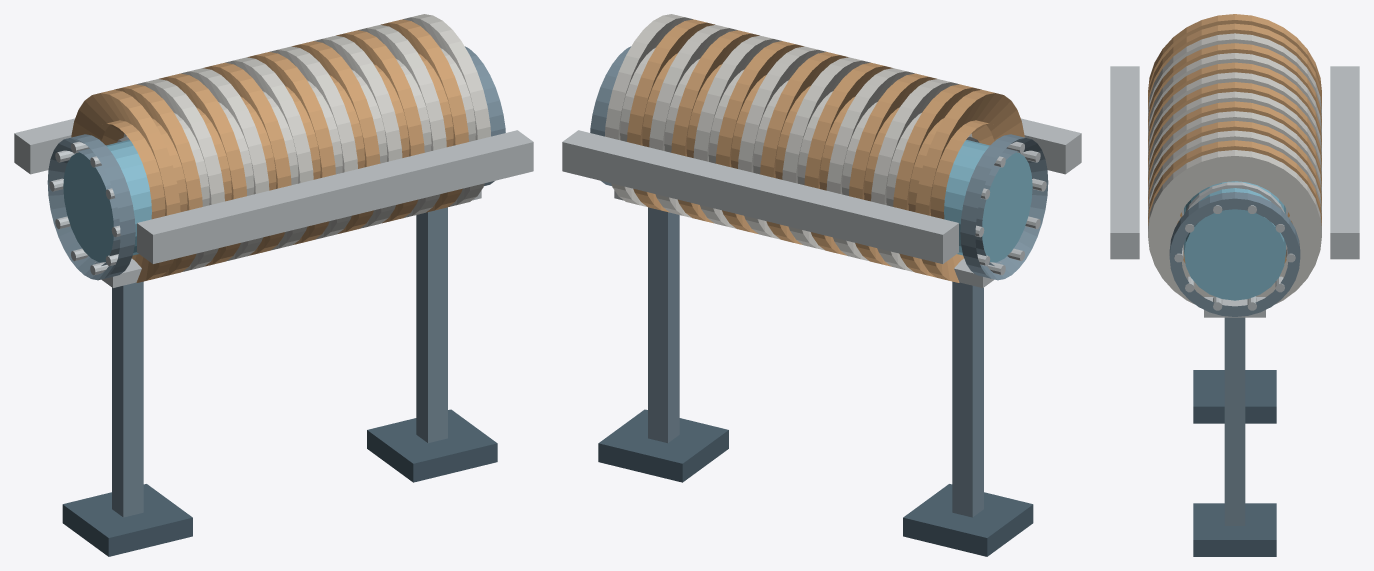
The model's file is 11_L75_CeramicIonAccelerationColumn.glb.
3 views of the same model, side by side, from view 1: azimuth 30°, elevation 25°; view 2: azimuth 150°, elevation 25°; view 3: azimuth 270°, elevation 25° (orthographic). The views are drawn at different scales.
Visible parts, largest first — view 1: CeramicIonAccelerationColumn_Node_0044, CeramicIonAccelerationColumn_Node_0045, CeramicIonAccelerationColumn_Node_0048, CeramicIonAccelerationColumn_Node_0028, CeramicIonAccelerationColumn_Node_0000, CeramicIonAccelerationColumn_Node_0046, CeramicIonAccelerationColumn_Node_0049, CeramicIonAccelerationColumn_Node_0001, CeramicIonAccelerationColumn_Node_0029, CeramicIonAccelerationColumn_Node_0030, CeramicIonAccelerationColumn_Node_0036, CeramicIonAccelerationColumn_Node_0034 (+12 smaller); view 2: CeramicIonAccelerationColumn_Node_0043, CeramicIonAccelerationColumn_Node_0045, CeramicIonAccelerationColumn_Node_0048, CeramicIonAccelerationColumn_Node_0028, CeramicIonAccelerationColumn_Node_0000, CeramicIonAccelerationColumn_Node_0046, CeramicIonAccelerationColumn_Node_0049, CeramicIonAccelerationColumn_Node_0001, CeramicIonAccelerationColumn_Node_0029, CeramicIonAccelerationColumn_Node_0030, CeramicIonAccelerationColumn_Node_0036, CeramicIonAccelerationColumn_Node_0034 (+12 smaller); view 3: CeramicIonAccelerationColumn_Node_0042, CeramicIonAccelerationColumn_Node_0000, CeramicIonAccelerationColumn_Node_0043, CeramicIonAccelerationColumn_Node_0044, CeramicIonAccelerationColumn_Node_0048, CeramicIonAccelerationColumn_Node_0012, CeramicIonAccelerationColumn_Node_0049, CeramicIonAccelerationColumn_Node_0046, CeramicIonAccelerationColumn_Node_0041, CeramicIonAccelerationColumn_Node_0037, CeramicIonAccelerationColumn_Node_0038, CeramicIonAccelerationColumn_Node_0029 (+12 smaller).
Part boxes in pixels (bbox=[...]): CeramicIonAccelerationColumn_Node_0044: bbox=[137, 130, 533, 263]; CeramicIonAccelerationColumn_Node_0045: bbox=[112, 281, 143, 517]; CeramicIonAccelerationColumn_Node_0048: bbox=[416, 207, 447, 443]; CeramicIonAccelerationColumn_Node_0028: bbox=[71, 90, 180, 282]; CeramicIonAccelerationColumn_Node_0000: bbox=[63, 140, 151, 262]; CeramicIonAccelerationColumn_Node_0046: bbox=[62, 484, 192, 556]; CeramicIonAccelerationColumn_Node_0049: bbox=[367, 409, 497, 482]; CeramicIonAccelerationColumn_Node_0001: bbox=[47, 134, 135, 280]; CeramicIonAccelerationColumn_Node_0029: bbox=[101, 84, 202, 277]; CeramicIonAccelerationColumn_Node_0030: bbox=[123, 79, 224, 271]; CeramicIonAccelerationColumn_Node_0036: bbox=[269, 46, 357, 239]; CeramicIonAccelerationColumn_Node_0034: bbox=[225, 57, 313, 250]; CeramicIonAccelerationColumn_Node_0043: bbox=[562, 130, 958, 263]; CeramicIonAccelerationColumn_Node_0045: bbox=[952, 281, 983, 517]; CeramicIonAccelerationColumn_Node_0048: bbox=[648, 207, 679, 443]; CeramicIonAccelerationColumn_Node_0028: bbox=[915, 90, 1024, 282]; CeramicIonAccelerationColumn_Node_0000: bbox=[944, 140, 1032, 262]; CeramicIonAccelerationColumn_Node_0046: bbox=[903, 484, 1033, 556]; CeramicIonAccelerationColumn_Node_0049: bbox=[598, 409, 728, 482]; CeramicIonAccelerationColumn_Node_0001: bbox=[960, 134, 1048, 280]; CeramicIonAccelerationColumn_Node_0029: bbox=[893, 84, 994, 277]; CeramicIonAccelerationColumn_Node_0030: bbox=[871, 79, 972, 271]; CeramicIonAccelerationColumn_Node_0036: bbox=[738, 46, 826, 239]; CeramicIonAccelerationColumn_Node_0034: bbox=[782, 57, 870, 250]; CeramicIonAccelerationColumn_Node_0042: bbox=[1148, 150, 1321, 304]; CeramicIonAccelerationColumn_Node_0000: bbox=[1184, 181, 1285, 300]; CeramicIonAccelerationColumn_Node_0043: bbox=[1330, 66, 1359, 259]; CeramicIonAccelerationColumn_Node_0044: bbox=[1110, 66, 1139, 259]; CeramicIonAccelerationColumn_Node_0048: bbox=[1224, 317, 1245, 525]; CeramicIonAccelerationColumn_Node_0012: bbox=[1169, 192, 1300, 316]; CeramicIonAccelerationColumn_Node_0049: bbox=[1193, 503, 1276, 556]; CeramicIonAccelerationColumn_Node_0046: bbox=[1193, 370, 1276, 423]; CeramicIonAccelerationColumn_Node_0041: bbox=[1148, 140, 1321, 263]; CeramicIonAccelerationColumn_Node_0037: bbox=[1148, 101, 1321, 217]; CeramicIonAccelerationColumn_Node_0038: bbox=[1148, 111, 1321, 220]; CeramicIonAccelerationColumn_Node_0029: bbox=[1148, 23, 1321, 108].
Size of the model in its own units: 1.95 by 2.06 by 1.2.
